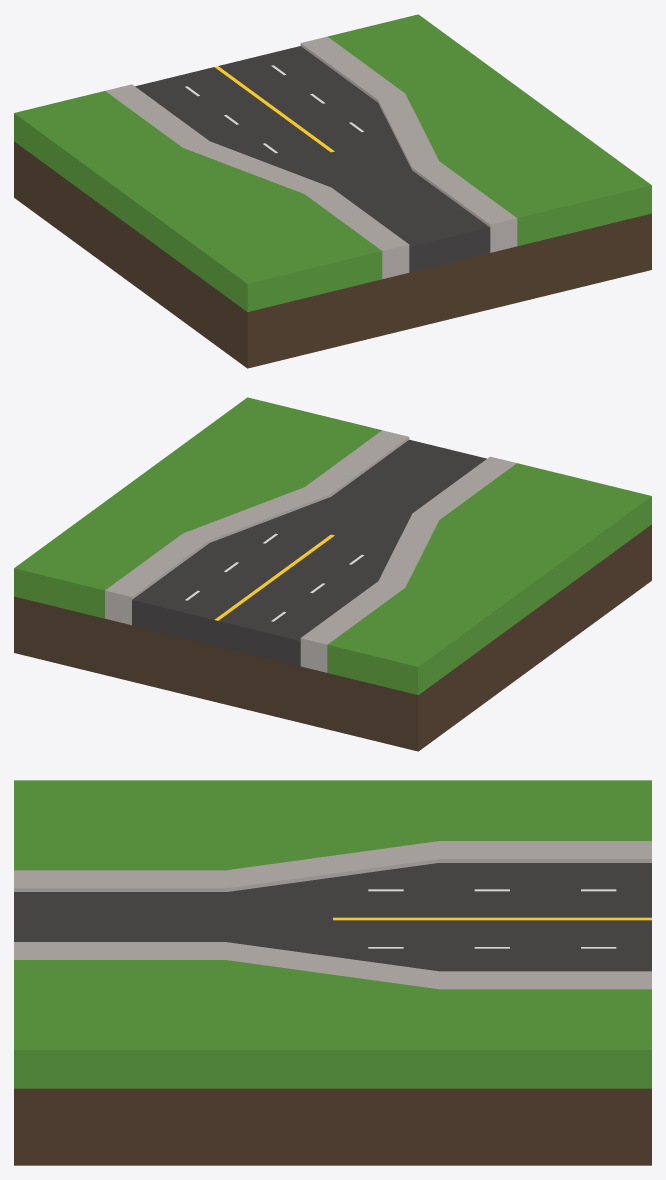
File: tile-road-to-mainroad.glb
3 views of the same model, one above another, from view 1: azimuth 30°, elevation 25°; view 2: azimuth 150°, elevation 25°; view 3: azimuth 270°, elevation 25° (orthographic). The views are drawn at different scales.
Parts seen in each view (by area): view 1: tile-road-to-mainroad; view 2: tile-road-to-mainroad; view 3: tile-road-to-mainroad.
Part boxes in pixels (x1,y1,x2,y2): tile-road-to-mainroad: [14, 14, 651, 368]; tile-road-to-mainroad: [14, 397, 651, 751]; tile-road-to-mainroad: [14, 780, 651, 1165].
Bounding box in the file's own units: 30 × 6 × 30.
Materials: 1 (1 with a texture image).
